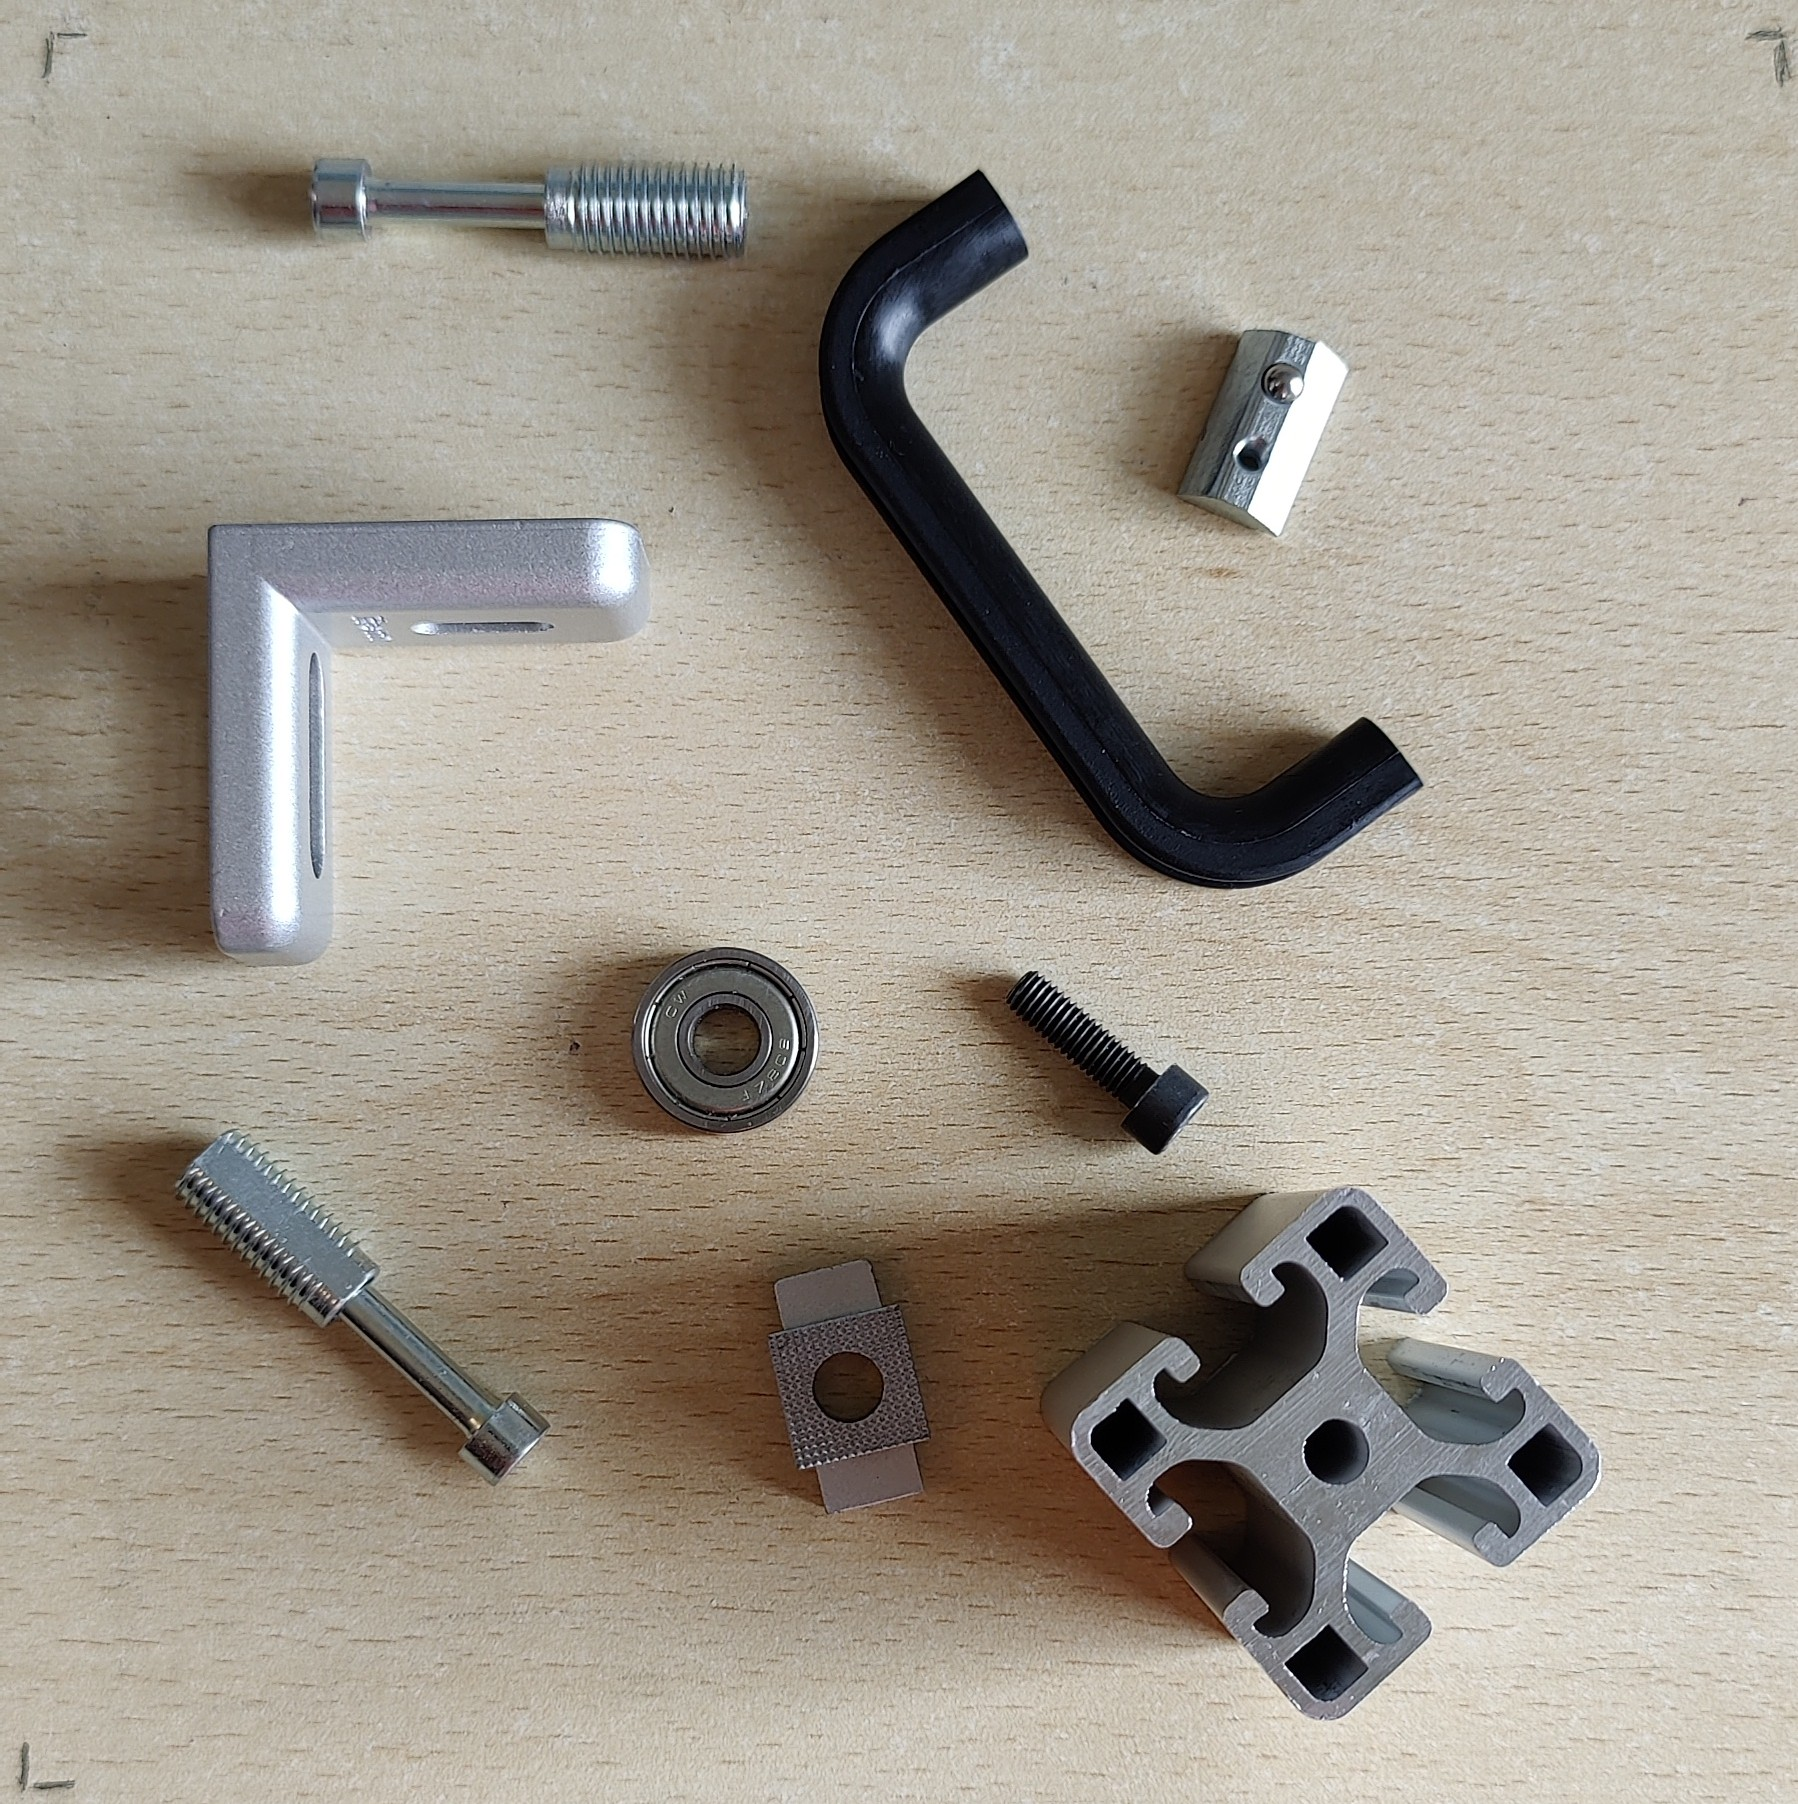Aluminium Extension: (1037, 1183, 1604, 1723)
Ball Bearing: (627, 946, 822, 1136)
Multiwinkel: (204, 514, 655, 971)
Pull Handle: (815, 165, 1426, 890)
Shoulder Socket Head Cap Screw: (166, 1129, 552, 1490), (306, 151, 751, 263)
Socket Head Cap Screw: (1003, 966, 1213, 1159)
T Nut Square: (762, 1258, 935, 1518)
T Spring Nut: (1172, 324, 1352, 542)
